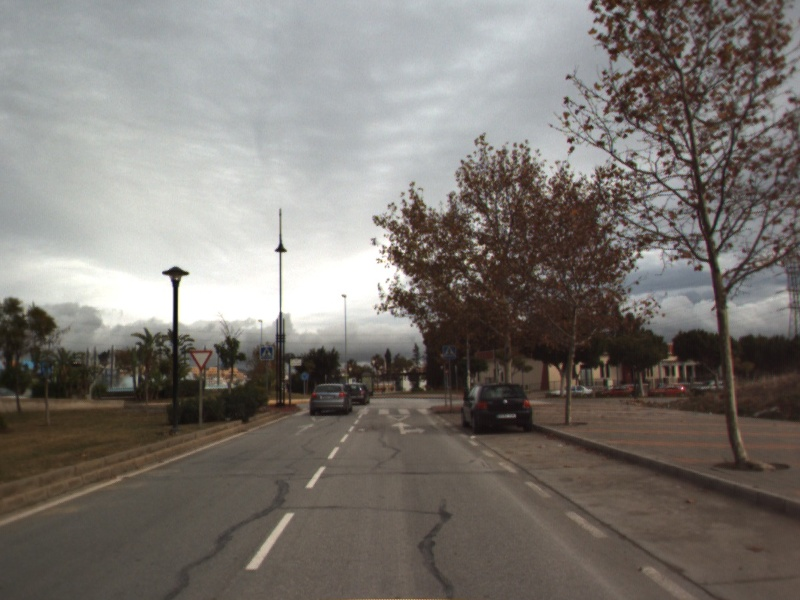STRAIGHT: (292, 421, 319, 438)
STRAIGHT_RIGHT: (389, 420, 428, 436)
